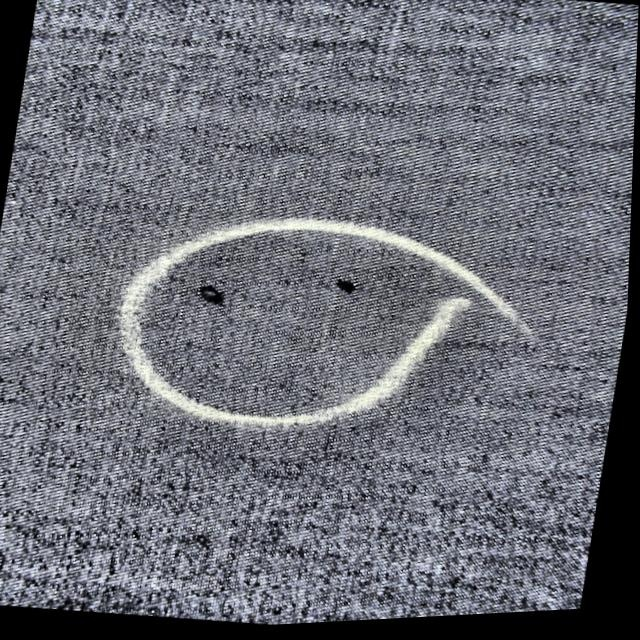Hole: (182, 271, 244, 314)
